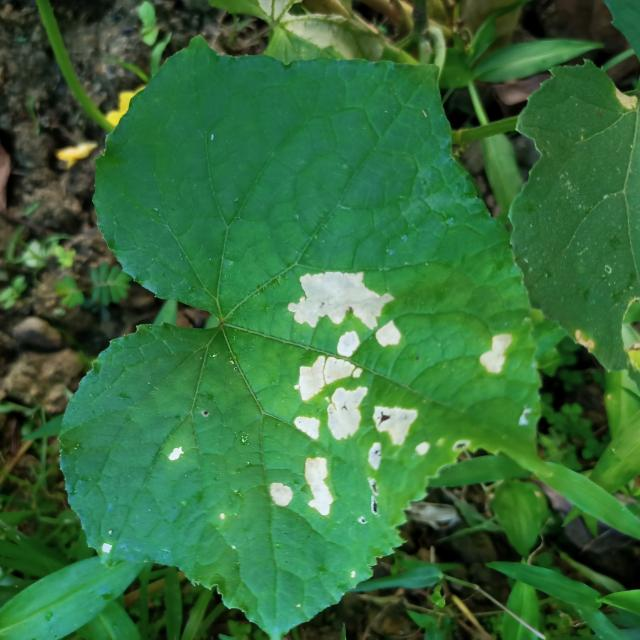disease_cucumber: (266, 267, 418, 529), (468, 324, 521, 390), (164, 441, 192, 473)
